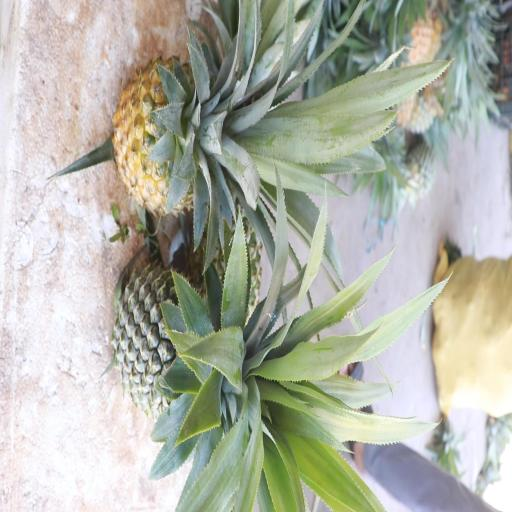Pineapple - v8 v1: (108, 52, 306, 222)
